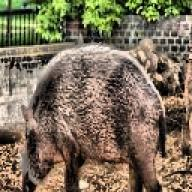boar: (18, 42, 170, 192)
